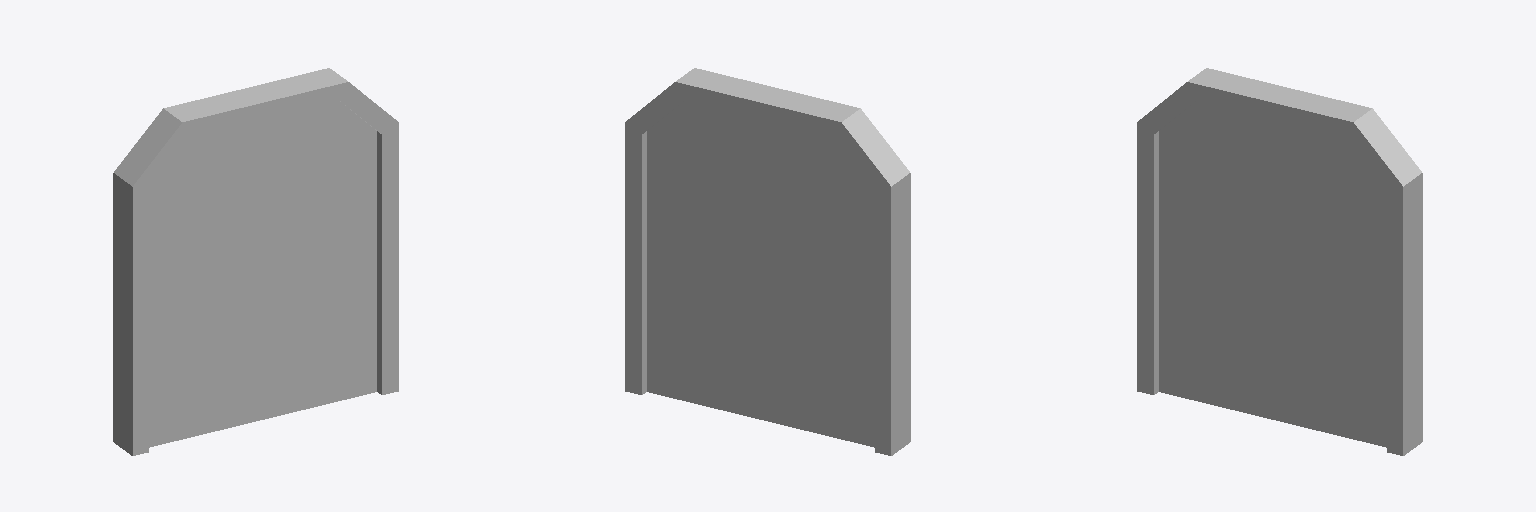
Rendered from Doors.obj.
3 renders of one model, left to right at view 1: azimuth 30°, elevation 25°; view 2: azimuth 150°, elevation 25°; view 3: azimuth 330°, elevation 25°, orthographic.
Parts seen in each view (by area): view 1: Slide.R, Slide.L, Doorframe; view 2: Slide.R, Slide.L, Doorframe; view 3: Slide.L, Slide.R, Doorframe.
Part boxes in pixels (x1,y1,x2,y2): Slide.R: (261,101,376,419); Slide.L: (149,121,260,447); Doorframe: (113,68,398,455); Slide.R: (647,101,762,419); Slide.L: (763,121,874,447); Doorframe: (625,68,910,455); Slide.L: (1159,101,1274,419); Slide.R: (1275,121,1386,447); Doorframe: (1137,68,1422,455).
Size of the model in its own units: 3.2 by 3.7 by 0.4.